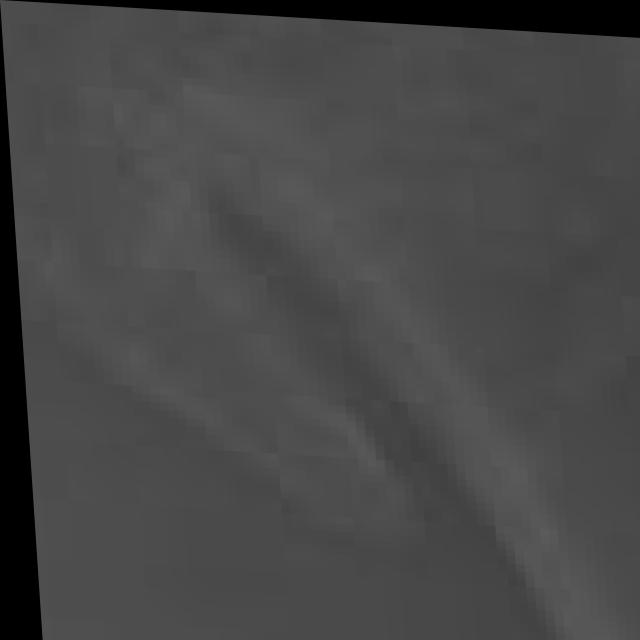fracture: (8, 20, 640, 640)
